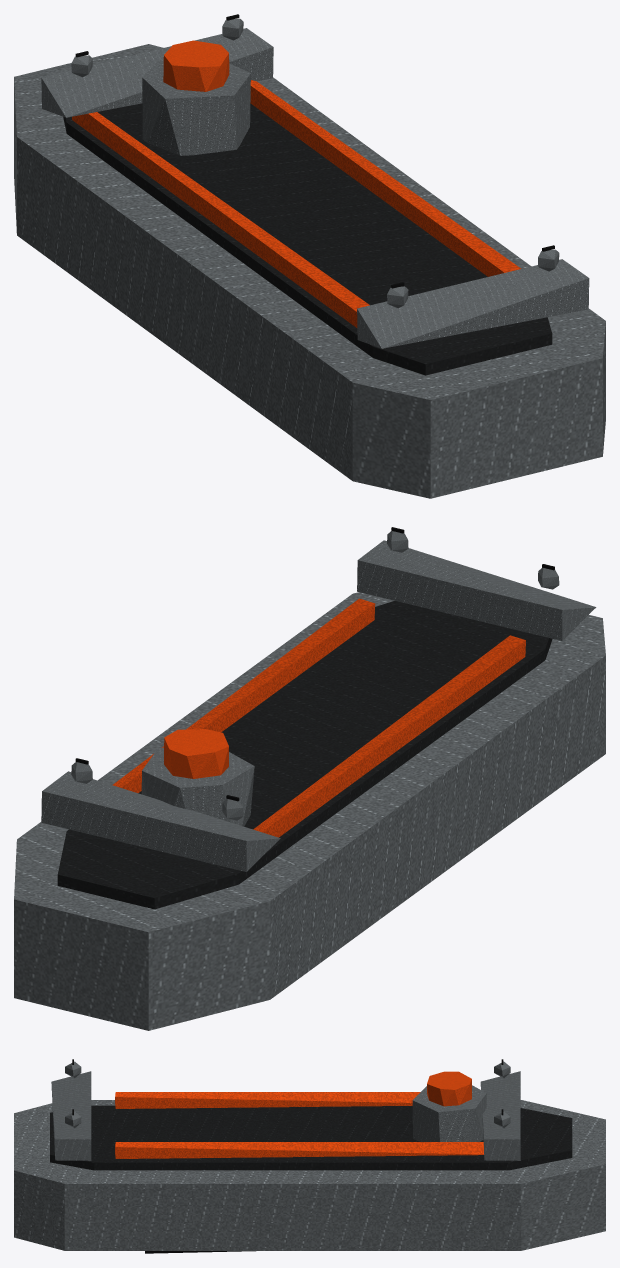
File: impulse-belt-module-ready-lod2.glb
3 renders of one model, top to bottom at view 1: azimuth 30°, elevation 25°; view 2: azimuth 150°, elevation 25°; view 3: azimuth 270°, elevation 25°, orthographic. The views are drawn at different scales.
Visible parts, largest first — view 1: Belt module steel armor, Recessed charcoal module plate, Steel module cross brace, Orange status rail, Orange status rail.001, Top module socket, Steel module cross brace.001, Socket orange insert; view 2: Belt module steel armor, Recessed charcoal module plate, Steel module cross brace, Steel module cross brace.001, Orange status rail, Orange status rail.001, Top module socket, Socket orange insert; view 3: Belt module steel armor, Recessed charcoal module plate, Orange status rail.001, Orange status rail, Steel module cross brace, Top module socket, Steel module cross brace.001, Socket orange insert.
Boxes of the visible parts, left/top/right/bottom form: Belt module steel armor: left=14, top=44, right=605, bottom=498; Recessed charcoal module plate: left=63, top=103, right=552, bottom=375; Steel module cross brace: left=357, top=259, right=589, bottom=348; Orange status rail: left=72, top=112, right=369, bottom=327; Orange status rail.001: left=250, top=80, right=521, bottom=276; Top module socket: left=142, top=60, right=250, bottom=155; Steel module cross brace.001: left=41, top=28, right=273, bottom=117; Socket orange insert: left=163, top=40, right=229, bottom=91; Belt module steel armor: left=14, top=592, right=605, bottom=1030; Recessed charcoal module plate: left=57, top=601, right=552, bottom=909; Steel module cross brace: left=357, top=540, right=596, bottom=640; Steel module cross brace.001: left=41, top=771, right=280, bottom=871; Orange status rail: left=253, top=635, right=525, bottom=837; Orange status rail.001: left=112, top=598, right=375, bottom=792; Top module socket: left=141, top=747, right=254, bottom=826; Socket orange insert: left=164, top=729, right=228, bottom=778; Belt module steel armor: left=14, top=1100, right=605, bottom=1250; Recessed charcoal module plate: left=50, top=1105, right=572, bottom=1170; Orange status rail.001: left=115, top=1142, right=483, bottom=1158; Orange status rail: left=115, top=1092, right=420, bottom=1108; Steel module cross brace: left=51, top=1071, right=91, bottom=1160; Top module socket: left=412, top=1085, right=486, bottom=1141; Steel module cross brace.001: left=480, top=1071, right=520, bottom=1160; Socket orange insert: left=427, top=1071, right=471, bottom=1106.
Size of the model in its own units: 0.094 by 0.0855 by 0.28.
4 materials, 4 textured.
